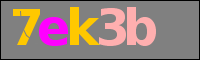3: (126, 5, 157, 48), (100, 6, 125, 47)
7: (11, 7, 38, 46)
e: (39, 17, 68, 47)
k: (69, 5, 98, 49)
